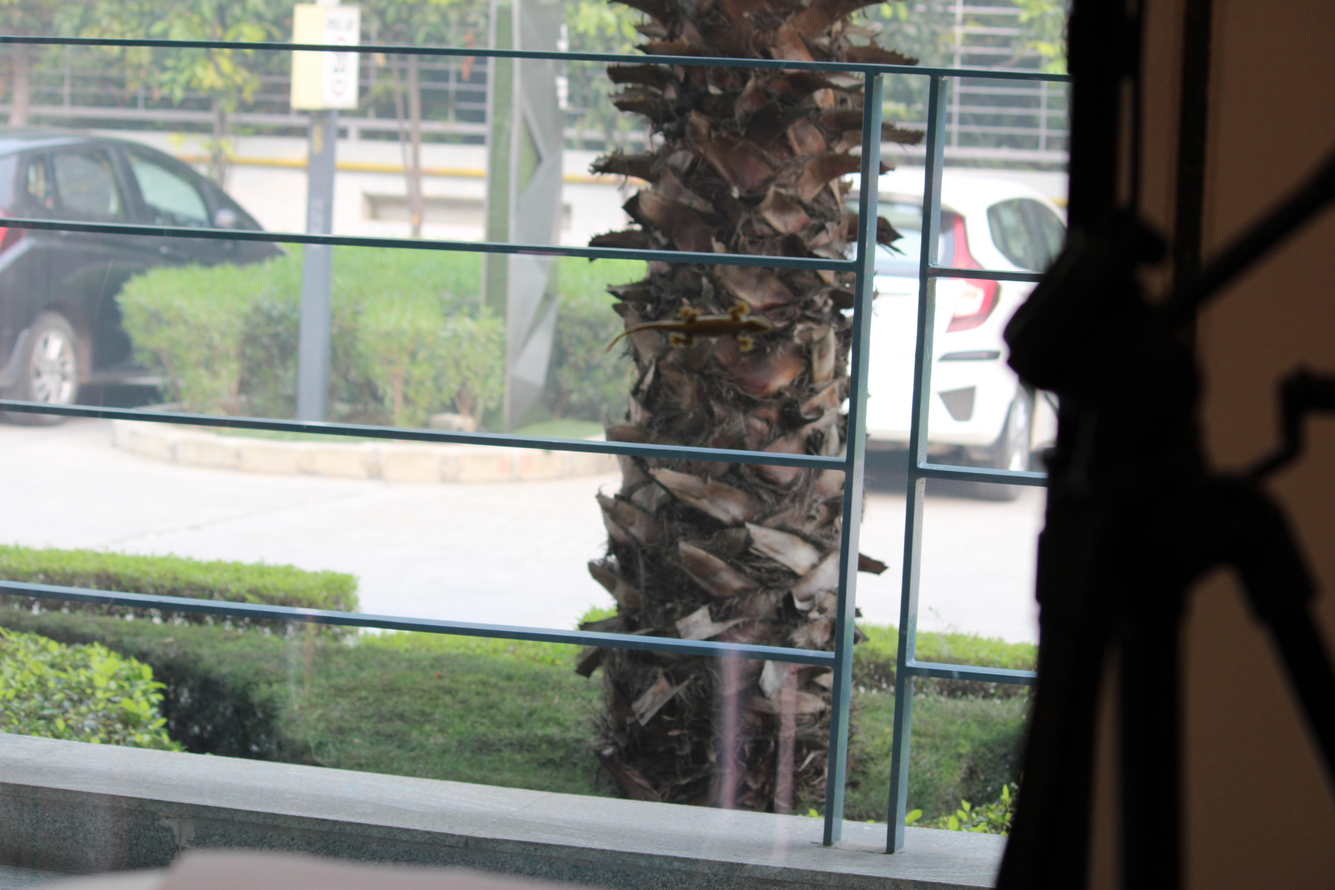lizard: (601, 294, 779, 363)
